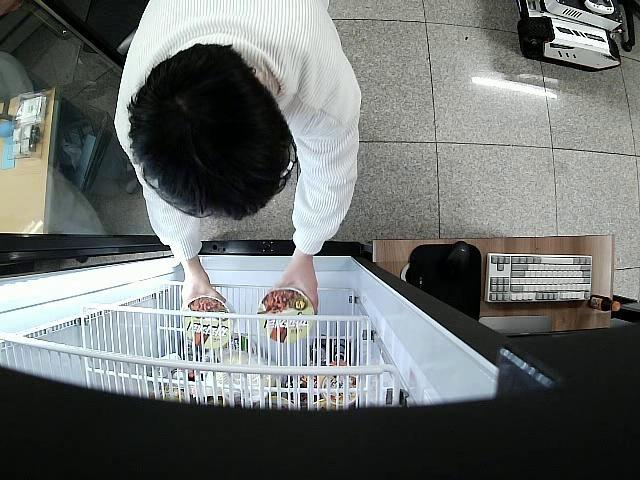03_chapagetti_L: (256, 289, 314, 344), (182, 296, 236, 350)
